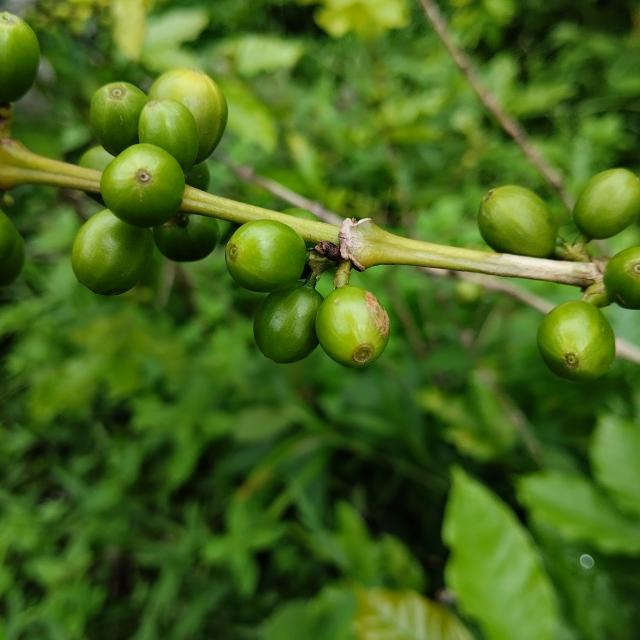green: (148, 68, 228, 163), (100, 143, 185, 227), (71, 209, 154, 295), (538, 301, 616, 382), (316, 285, 390, 368), (225, 219, 306, 292), (479, 185, 558, 257), (253, 286, 324, 364), (574, 168, 640, 240), (138, 98, 199, 171), (89, 81, 147, 155), (0, 11, 39, 103), (152, 214, 219, 261), (604, 246, 640, 310)
